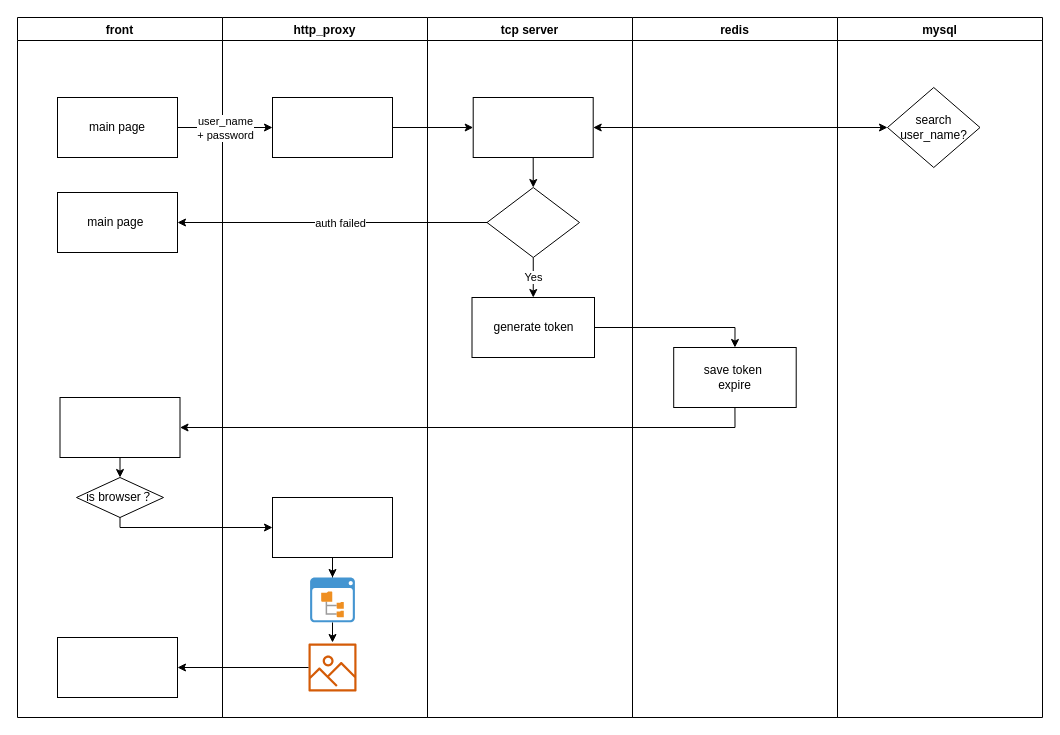
Image size: 1060x735. Some labels were removed from this diagram. Each missing label, with the centre of its shape:
/login: point (332, 127)
/show: point (332, 527)
browser display image: point (117, 667)
login handler: point (532, 127)
password check ok?: point (533, 222)
user info page: point (119, 427)
